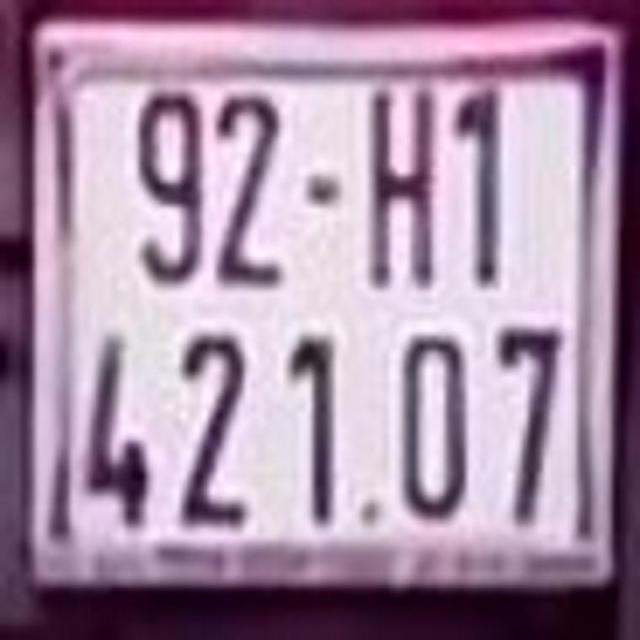0: (395, 318, 477, 524)
1: (448, 67, 508, 290), (286, 328, 350, 528)
2: (210, 74, 290, 293), (178, 320, 250, 530)
4: (80, 330, 158, 532)
7: (492, 308, 568, 528)
9: (134, 74, 204, 287)
H: (364, 74, 442, 296)
